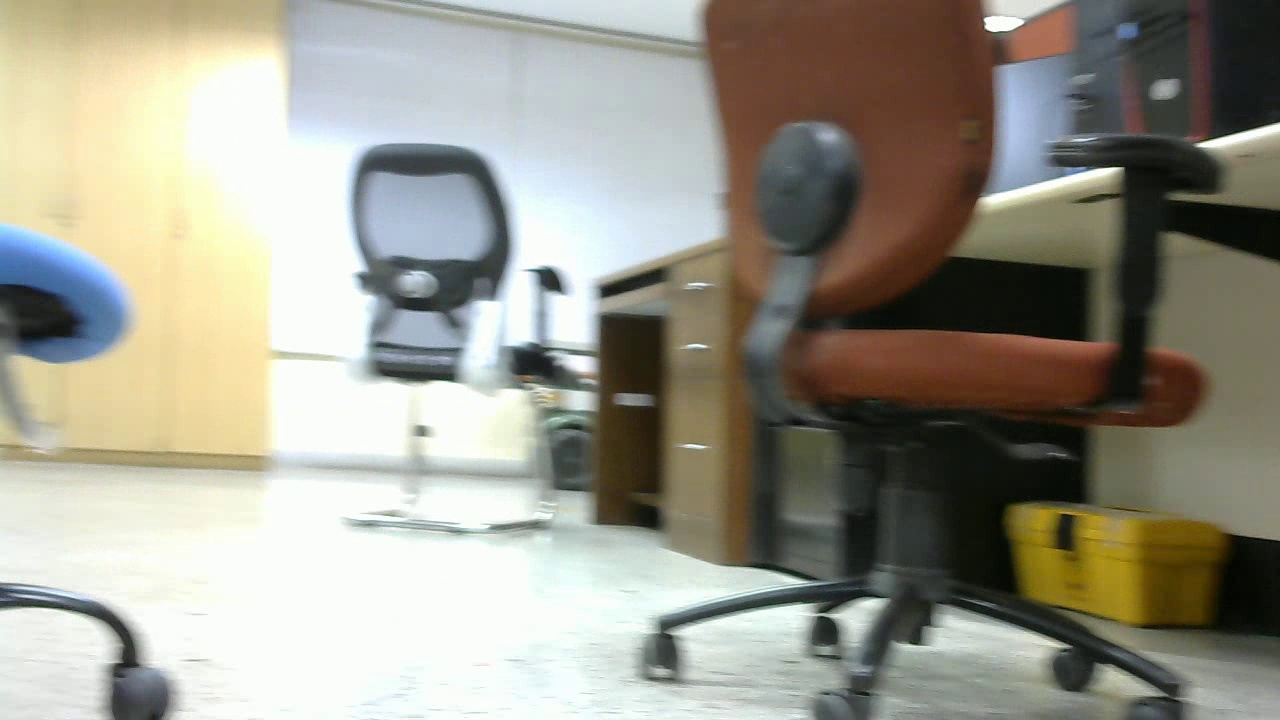chair: (629, 1, 1230, 720), (308, 129, 590, 545)
